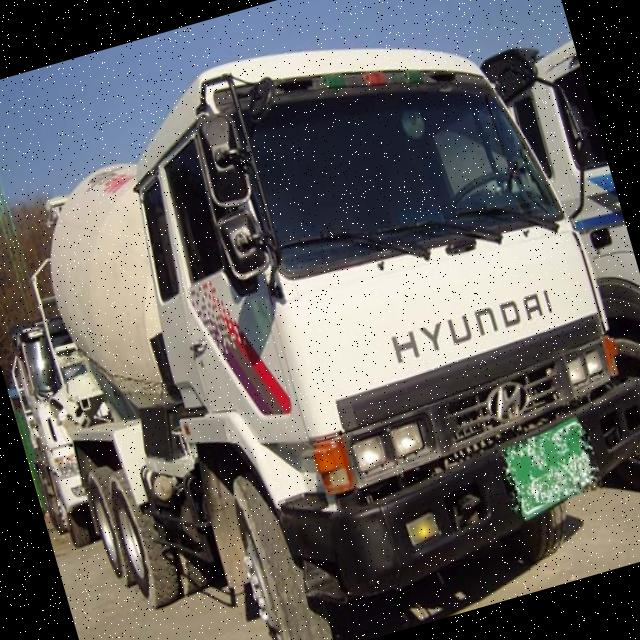Mixer Truck: (0, 0, 640, 640), (406, 29, 640, 532), (0, 311, 131, 555)
